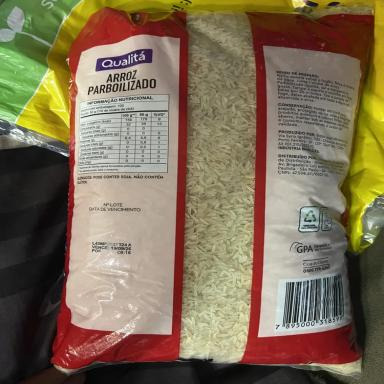rice package: (53, 9, 373, 373)
